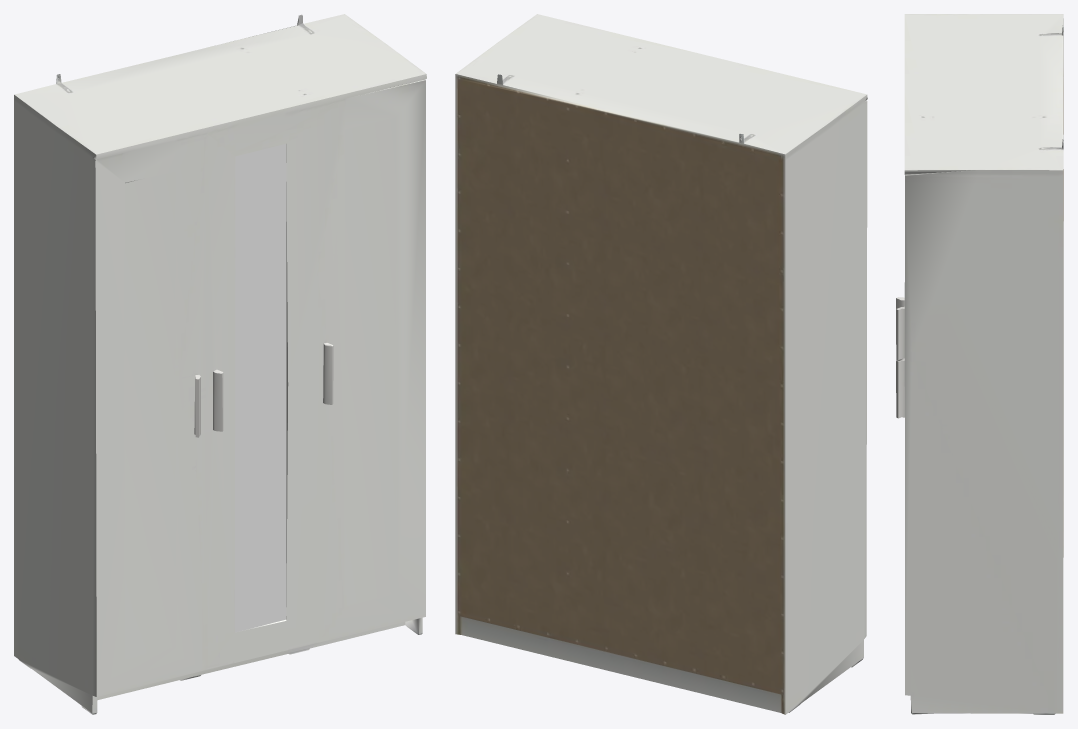
3 views of the same model, side by side, from view 1: azimuth 30°, elevation 25°; view 2: azimuth 150°, elevation 25°; view 3: azimuth 270°, elevation 25° (orthographic). The views are drawn at different scales.
Visible parts, largest first — view 1: ProcessedMeshNode, 2; view 2: ProcessedMeshNode; view 3: ProcessedMeshNode.
Part boxes in pixels (<box>): ProcessedMeshNode: <box>14,14,426,714</box>; 2: <box>235,144,286,632</box>; ProcessedMeshNode: <box>455,14,867,714</box>; ProcessedMeshNode: <box>896,14,1063,714</box>.
Bounding box in the file's own units: 1.17 × 1.94 × 0.5319.
2 materials, 2 textured.
